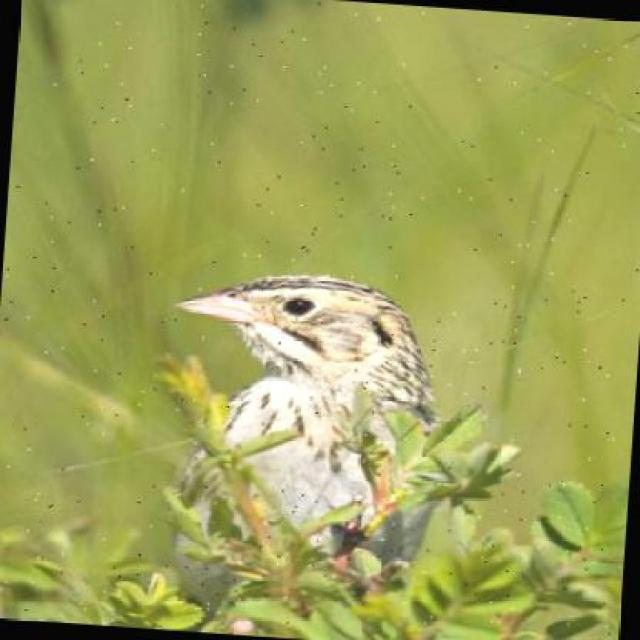Bird: (162, 246, 437, 581)
